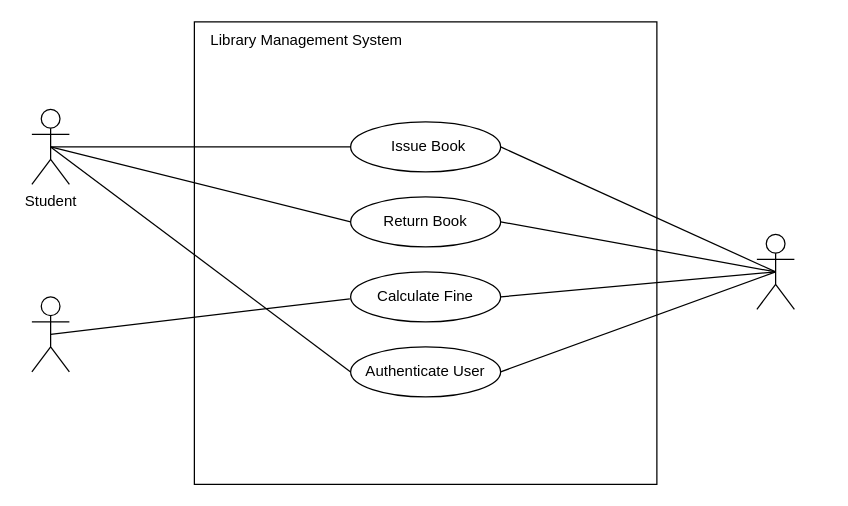
This 848x506 diagram has some shape labels left out. Each missing label, with the centre of its shape:
Librarian: pixel 50 334
Library System: pixel 775 271
